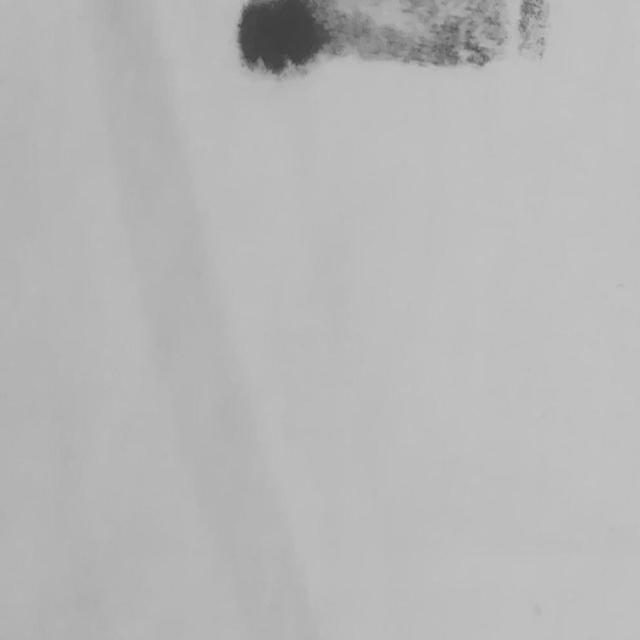Stain: (233, 0, 553, 81)
